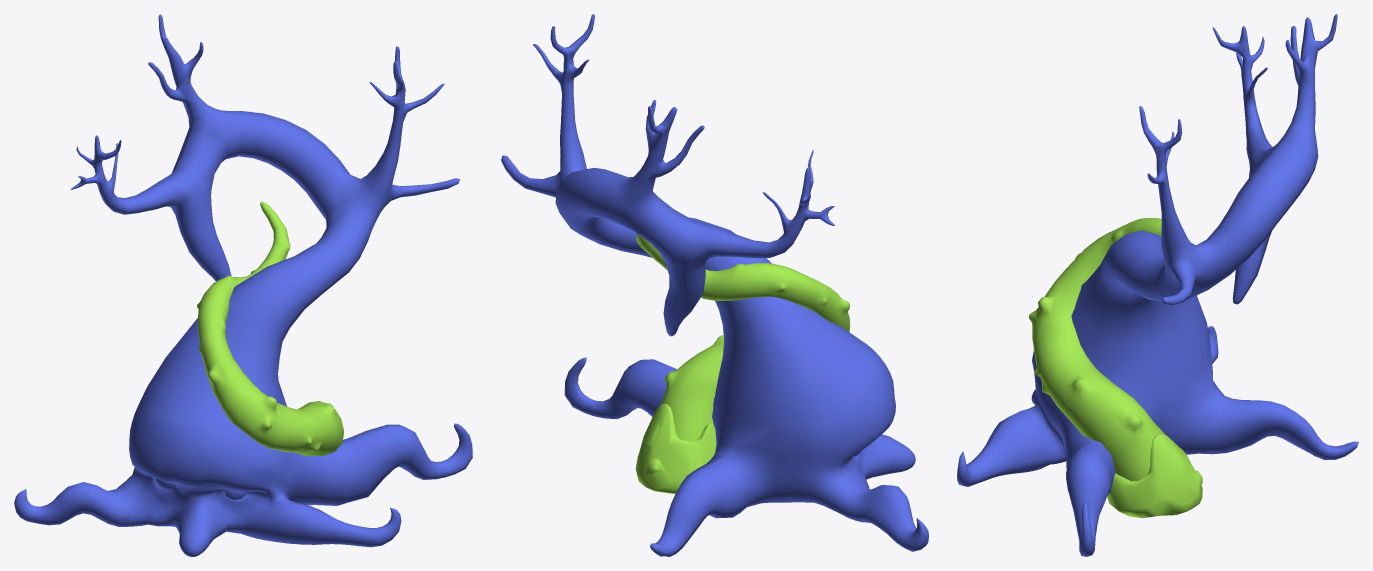
The model's file is mdl_Tree2_Unity.fbx.
The picture shows the model from 3 angles, left to right: view 1: azimuth 30°, elevation 25°; view 2: azimuth 150°, elevation 25°; view 3: azimuth 270°, elevation 25°; orthographic projection. The views are drawn at different scales.
Parts seen in each view (by area): view 1: Tree_low, Tentacle_low; view 2: Tree_low, Tentacle_low, TentacleGround_low; view 3: Tree_low, Tentacle_low, TentacleGround_low.
Part boxes in pixels (box(x1,y1,x2,y2)): Tree_low: box(14, 14, 472, 556); Tentacle_low: box(197, 201, 343, 456); Tree_low: box(501, 14, 928, 556); Tentacle_low: box(636, 234, 850, 441); TentacleGround_low: box(635, 404, 716, 493); Tree_low: box(957, 14, 1358, 556); Tentacle_low: box(1029, 218, 1165, 481); TentacleGround_low: box(1107, 434, 1202, 518).
Size of the model in its own units: 3.93 by 3.76 by 3.
